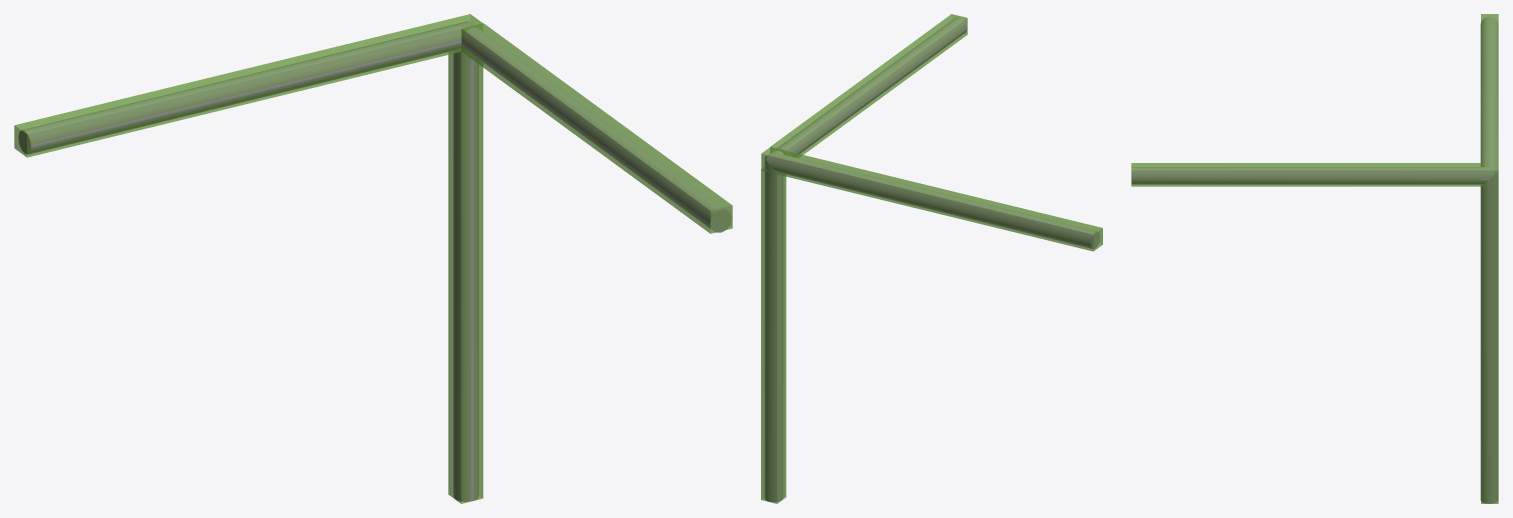
Rendered from M_md_StallBeam1_1m_03.fbx.
3 renders of one model, left to right at view 1: azimuth 30°, elevation 25°; view 2: azimuth 150°, elevation 25°; view 3: azimuth 270°, elevation 25°, orthographic. The views are drawn at different scales.
Visible parts, largest first — view 1: M_md_StallBeam1_1m_03_LOD0, M_md_StallBeam1_1m_03_col_03, M_md_StallBeam1_1m_03_col_02, M_md_StallBeam1_1m_03_col_01; view 2: M_md_StallBeam1_1m_03_LOD0, M_md_StallBeam1_1m_03_col_03, M_md_StallBeam1_1m_03_col_02, M_md_StallBeam1_1m_03_col_01; view 3: M_md_StallBeam1_1m_03_LOD0, M_md_StallBeam1_1m_03_col_01, M_md_StallBeam1_1m_03_col_02, M_md_StallBeam1_1m_03_col_03.
Boxes of the visible parts, left/top/right/bottom form: M_md_StallBeam1_1m_03_LOD0: left=18, top=21, right=731, bottom=501; M_md_StallBeam1_1m_03_col_03: left=14, top=14, right=482, bottom=157; M_md_StallBeam1_1m_03_col_02: left=448, top=49, right=483, bottom=503; M_md_StallBeam1_1m_03_col_01: left=461, top=23, right=732, bottom=233; M_md_StallBeam1_1m_03_LOD0: left=764, top=17, right=1099, bottom=502; M_md_StallBeam1_1m_03_col_03: left=761, top=147, right=1102, bottom=251; M_md_StallBeam1_1m_03_col_02: left=761, top=167, right=786, bottom=503; M_md_StallBeam1_1m_03_col_01: left=770, top=14, right=967, bottom=157; M_md_StallBeam1_1m_03_LOD0: left=1131, top=16, right=1498, bottom=503; M_md_StallBeam1_1m_03_col_01: left=1131, top=163, right=1480, bottom=186; M_md_StallBeam1_1m_03_col_02: left=1481, top=182, right=1498, bottom=503; M_md_StallBeam1_1m_03_col_03: left=1481, top=14, right=1498, bottom=185.
Size of what is drawn, in the model's own units: 103 by 103 by 103.
